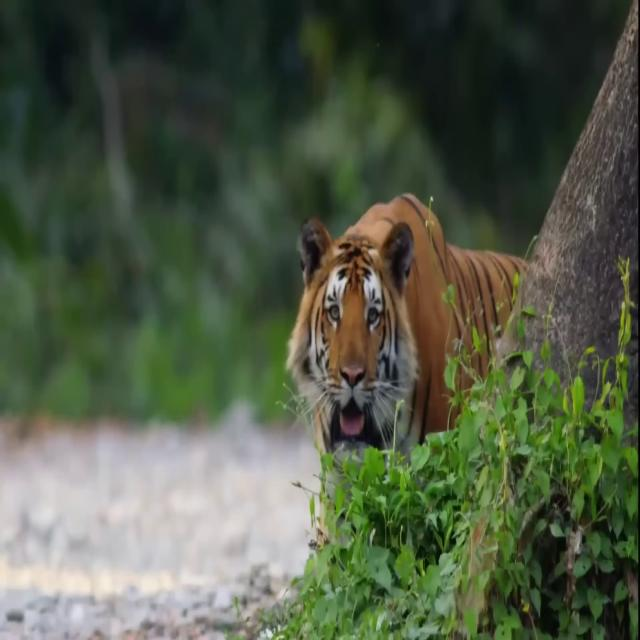tiger: (287, 192, 526, 554)
